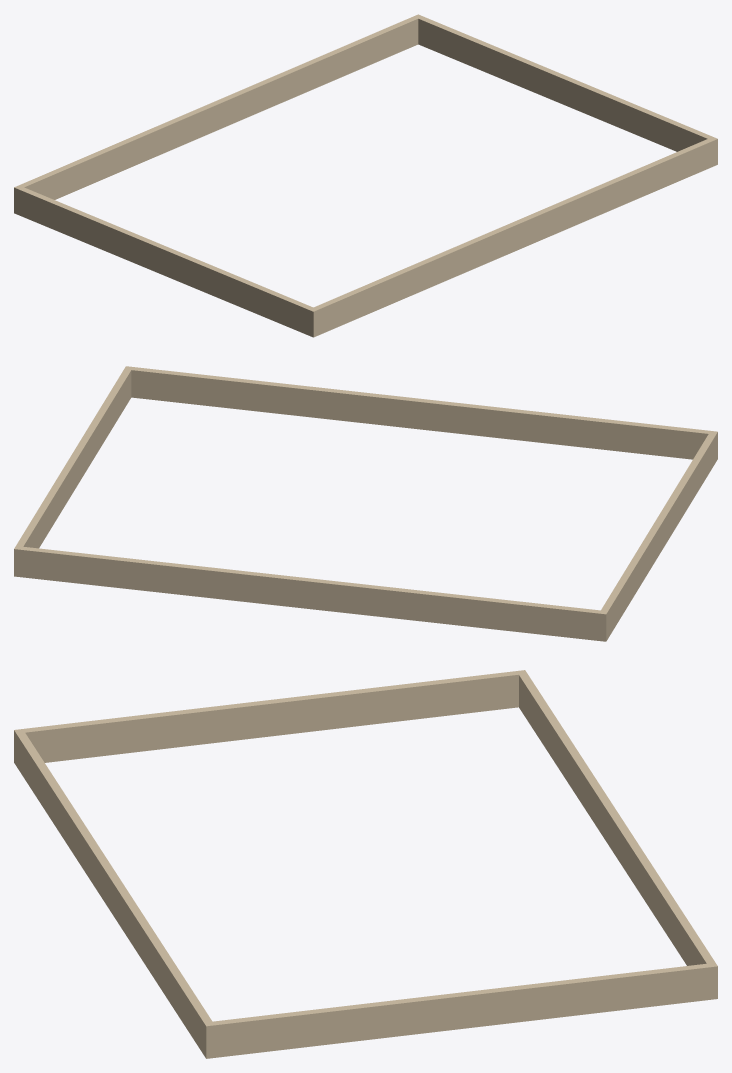
The picture shows the model from 3 angles, top to bottom: view 1: azimuth 30°, elevation 25°; view 2: azimuth 150°, elevation 25°; view 3: azimuth 270°, elevation 25°; orthographic projection. The views are drawn at different scales.
Visible parts, largest first — view 1: SM_4a33d808270dff81b8ba; view 2: SM_4a33d808270dff81b8ba; view 3: SM_4a33d808270dff81b8ba.
Boxes of the visible parts, x1,y1,x2,y2 form: SM_4a33d808270dff81b8ba: (14,14,717,337); SM_4a33d808270dff81b8ba: (14,366,717,641); SM_4a33d808270dff81b8ba: (14,670,717,1058).
Size of the model in its own units: 16.74 by 13.98 by 0.715.
